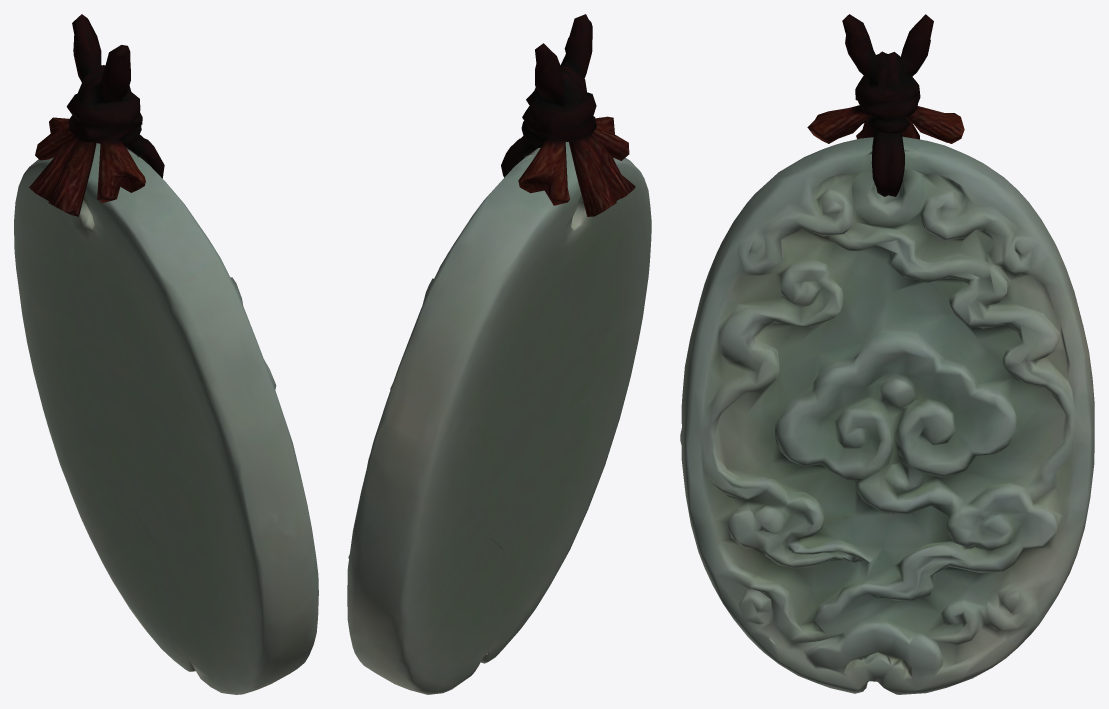
3 renders of one model, left to right at view 1: azimuth 30°, elevation 25°; view 2: azimuth 150°, elevation 25°; view 3: azimuth 270°, elevation 25°, orthographic. The views are drawn at different scales.
Visible parts, largest first — view 1: tripo_node_a34637f6-fec7-43c9-aff9-a3d46f801808; view 2: tripo_node_a34637f6-fec7-43c9-aff9-a3d46f801808; view 3: tripo_node_a34637f6-fec7-43c9-aff9-a3d46f801808.
Part boxes in pixels (x1,y1,x2,y2): tripo_node_a34637f6-fec7-43c9-aff9-a3d46f801808: [14, 14, 318, 694]; tripo_node_a34637f6-fec7-43c9-aff9-a3d46f801808: [347, 14, 651, 694]; tripo_node_a34637f6-fec7-43c9-aff9-a3d46f801808: [680, 14, 1094, 694].
Size of the model in its own units: 0.3301 by 1 by 0.6013.
1 material, 1 textured.
